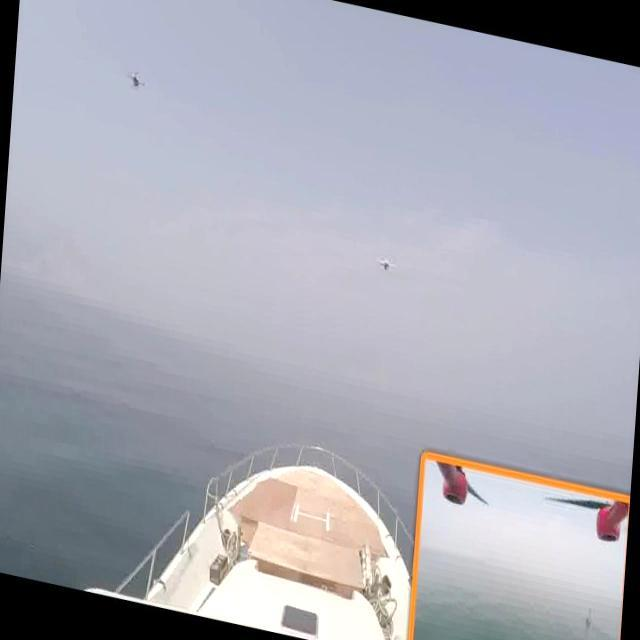drone: (122, 65, 152, 99), (373, 246, 399, 279)
